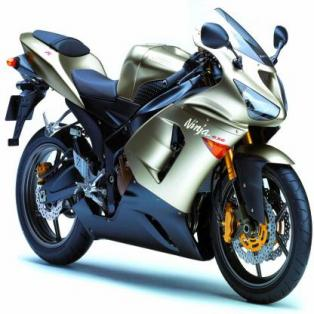Motocicleta: (4, 9, 314, 308)
